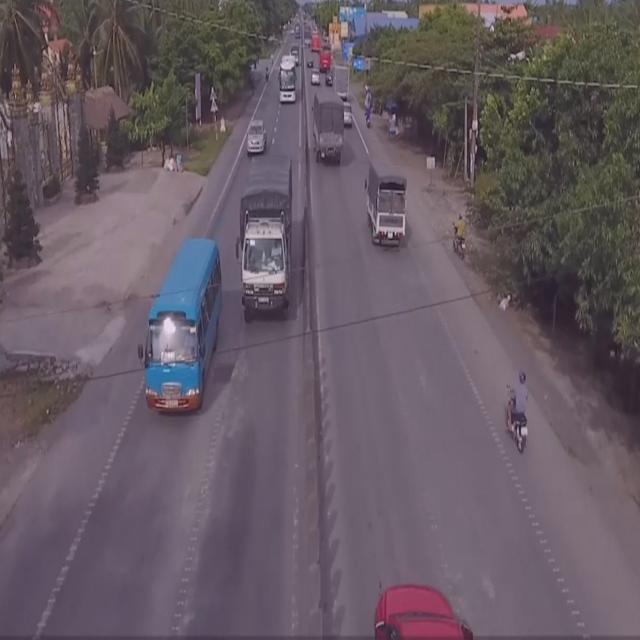bus: (138, 236, 224, 419), (278, 55, 298, 103)
car: (244, 118, 267, 156)
motorbike: (504, 370, 532, 459), (450, 216, 466, 264)
truck: (237, 149, 294, 325), (365, 165, 408, 248), (311, 90, 346, 162)
